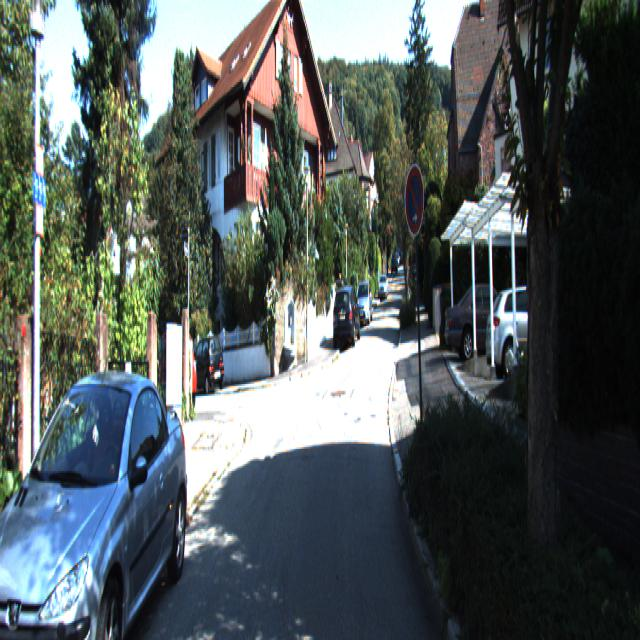Car: (0, 358, 191, 638), (484, 278, 582, 381), (445, 280, 531, 365), (188, 334, 225, 408), (333, 282, 361, 349), (356, 279, 374, 325)
